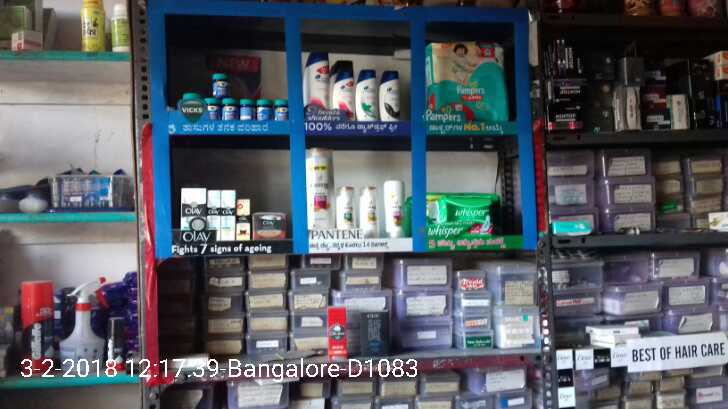beauty: (307, 145, 333, 239), (301, 45, 330, 115), (380, 174, 410, 237), (331, 55, 355, 124), (178, 186, 207, 238), (354, 62, 378, 121), (380, 61, 404, 118), (357, 181, 380, 239), (333, 183, 355, 238), (221, 188, 237, 244), (252, 210, 285, 237), (207, 186, 220, 238)
pharmacy: (424, 37, 513, 129), (200, 68, 294, 123), (423, 195, 503, 233)
